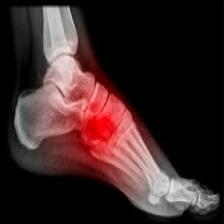stress-fracture: (7, 7, 220, 221)
